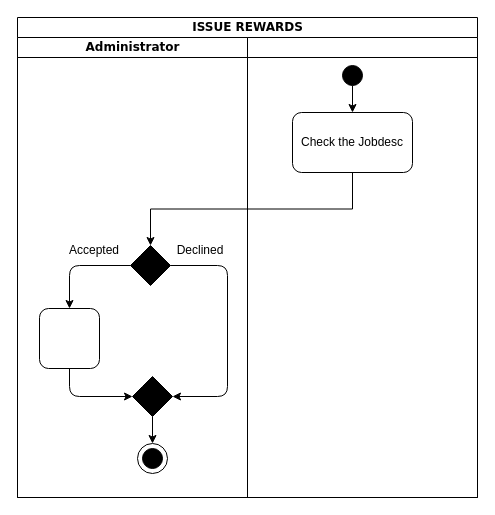
This 495x515 diagram has some shape labels left out. The centre of each missing label's shape, as x and y in pixels:
"Entrepreneur" goes at point 362,267.
"Issue Reward Queue" goes at point 69,338.
